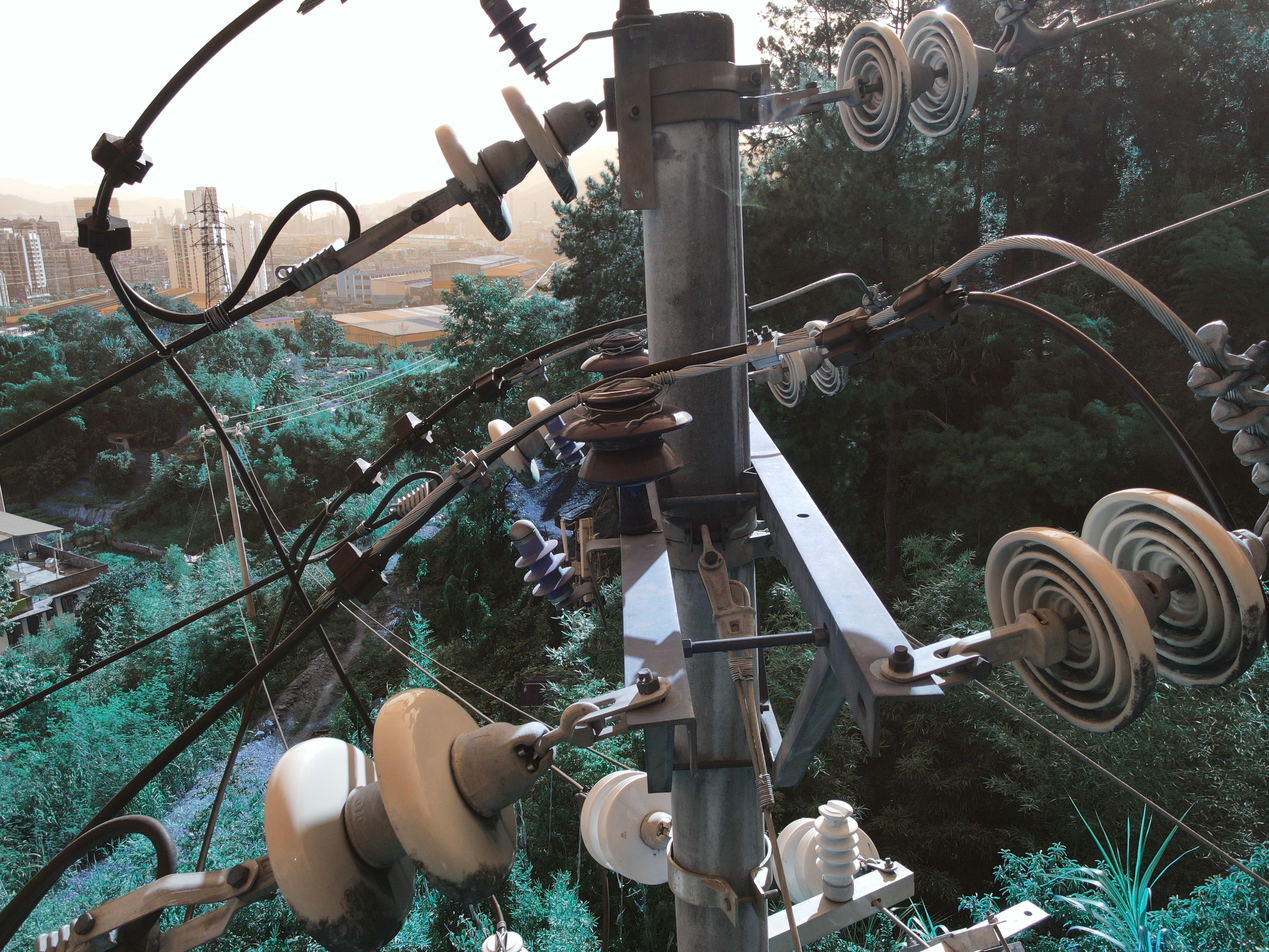severe_soiling_no_discharge_whole: (258, 679, 548, 935), (968, 488, 1263, 733), (428, 85, 605, 246), (835, 7, 1001, 154), (766, 351, 850, 410)
